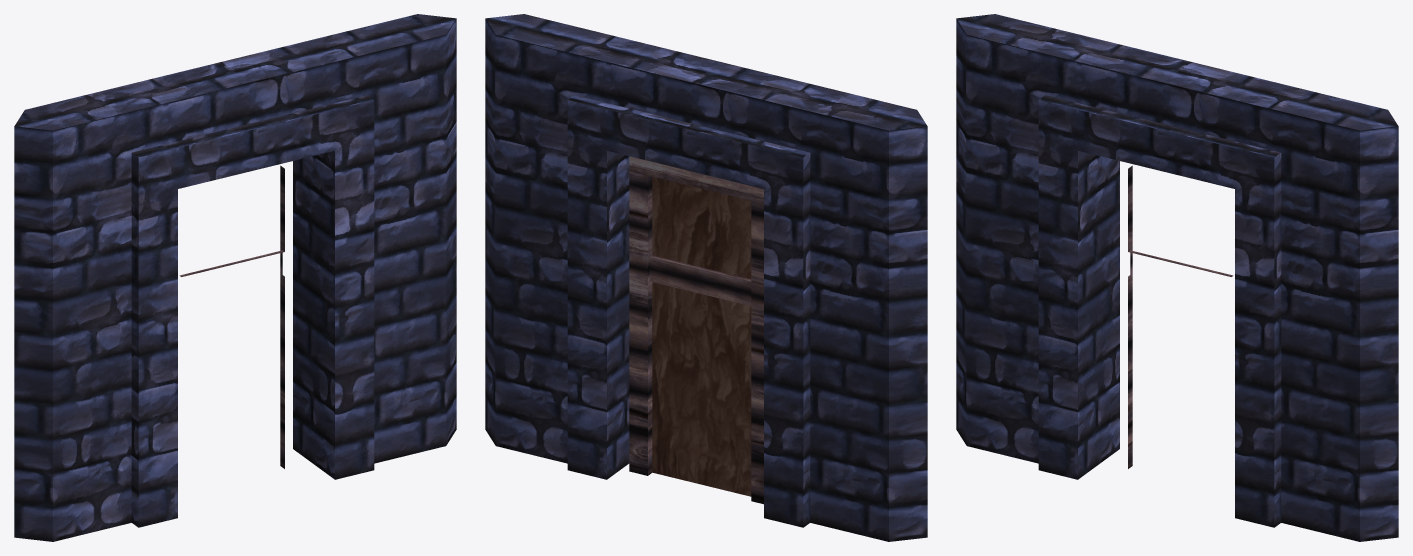
The model's file is Door.glb.
3 views of the same model, side by side, from view 1: azimuth 30°, elevation 25°; view 2: azimuth 150°, elevation 25°; view 3: azimuth 330°, elevation 25° (orthographic).
Visible parts, largest first — view 1: doorway, door; view 2: doorway, door; view 3: doorway, door.
Part boxes in pixels (x1,y1,x2,y2): doorway: (14, 14, 456, 541); door: (179, 165, 284, 468); doorway: (485, 14, 927, 541); door: (629, 156, 763, 504); doorway: (956, 14, 1398, 541); door: (1128, 165, 1233, 468).
Bounding box in the file's own units: 1.12 × 1 × 0.185.
Materials: 4 (4 with a texture image).
